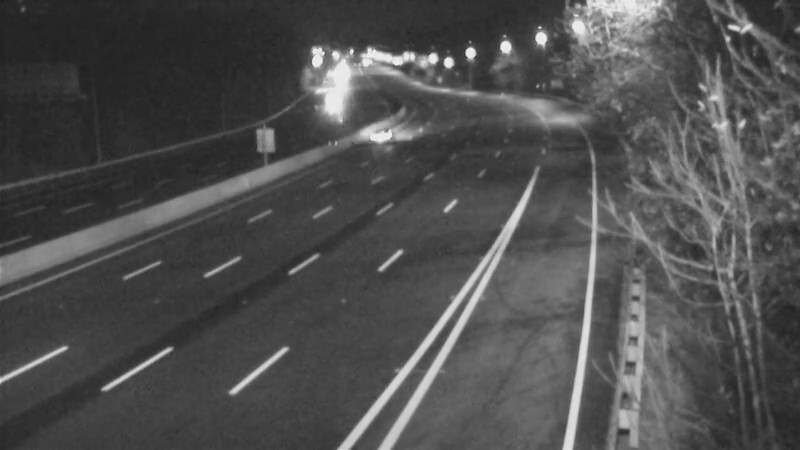vehicle: (347, 111, 397, 161), (307, 81, 357, 131)
